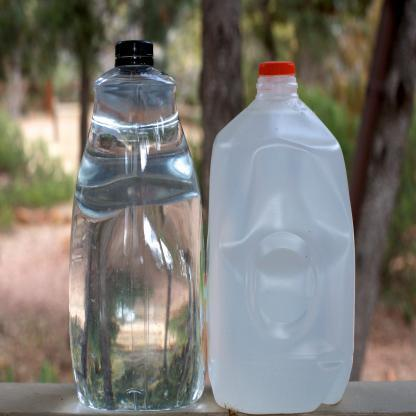bottle: (208, 13, 358, 414), (61, 14, 207, 415)
